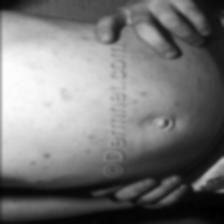Non-Cancerous Skin Condition: (58, 90, 72, 102), (189, 78, 200, 86), (43, 100, 53, 108), (181, 64, 189, 70), (138, 92, 147, 96), (43, 152, 51, 156), (60, 42, 68, 46), (87, 135, 93, 140), (174, 103, 180, 107), (130, 101, 136, 103)
